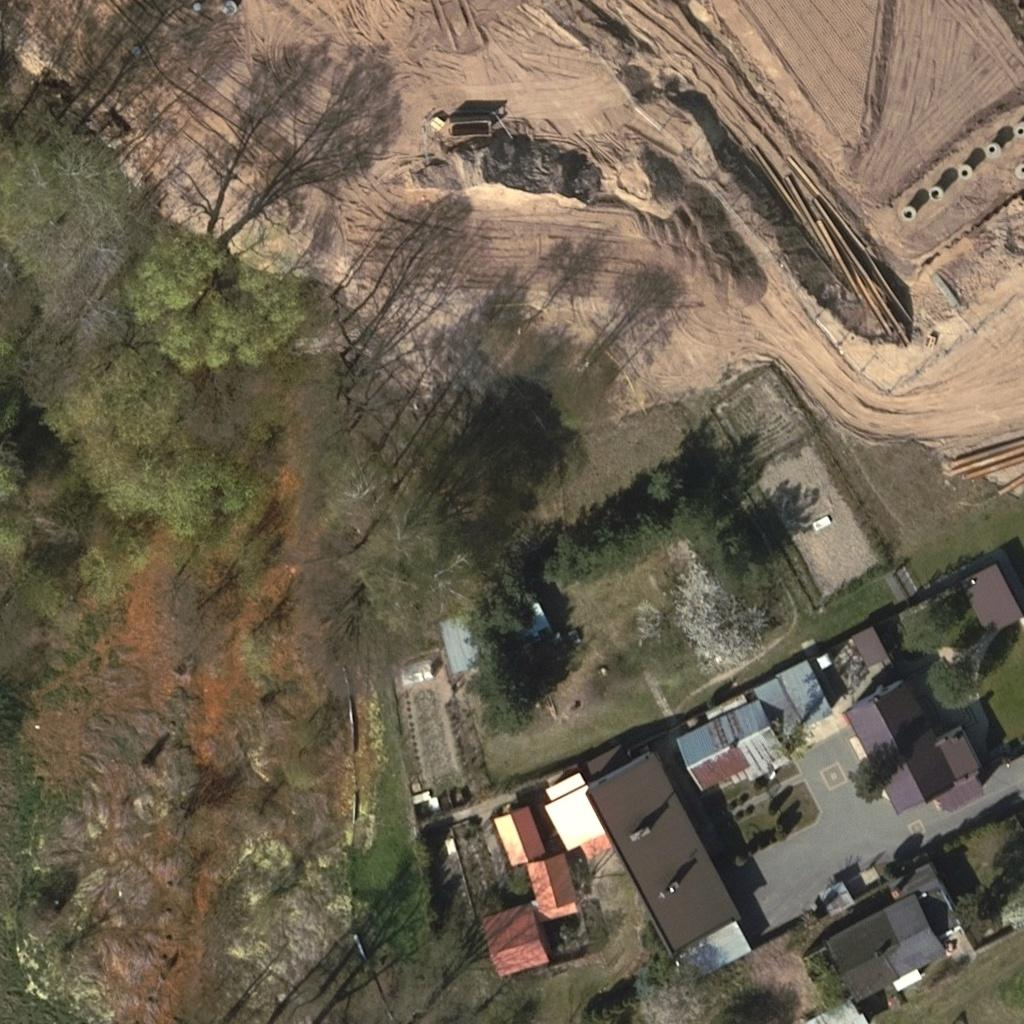ciezarowka: (426, 113, 495, 137)
